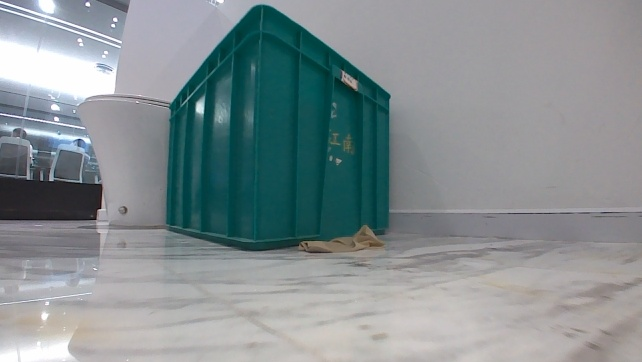socks: (295, 224, 389, 255)
toilet: (70, 90, 173, 230)
